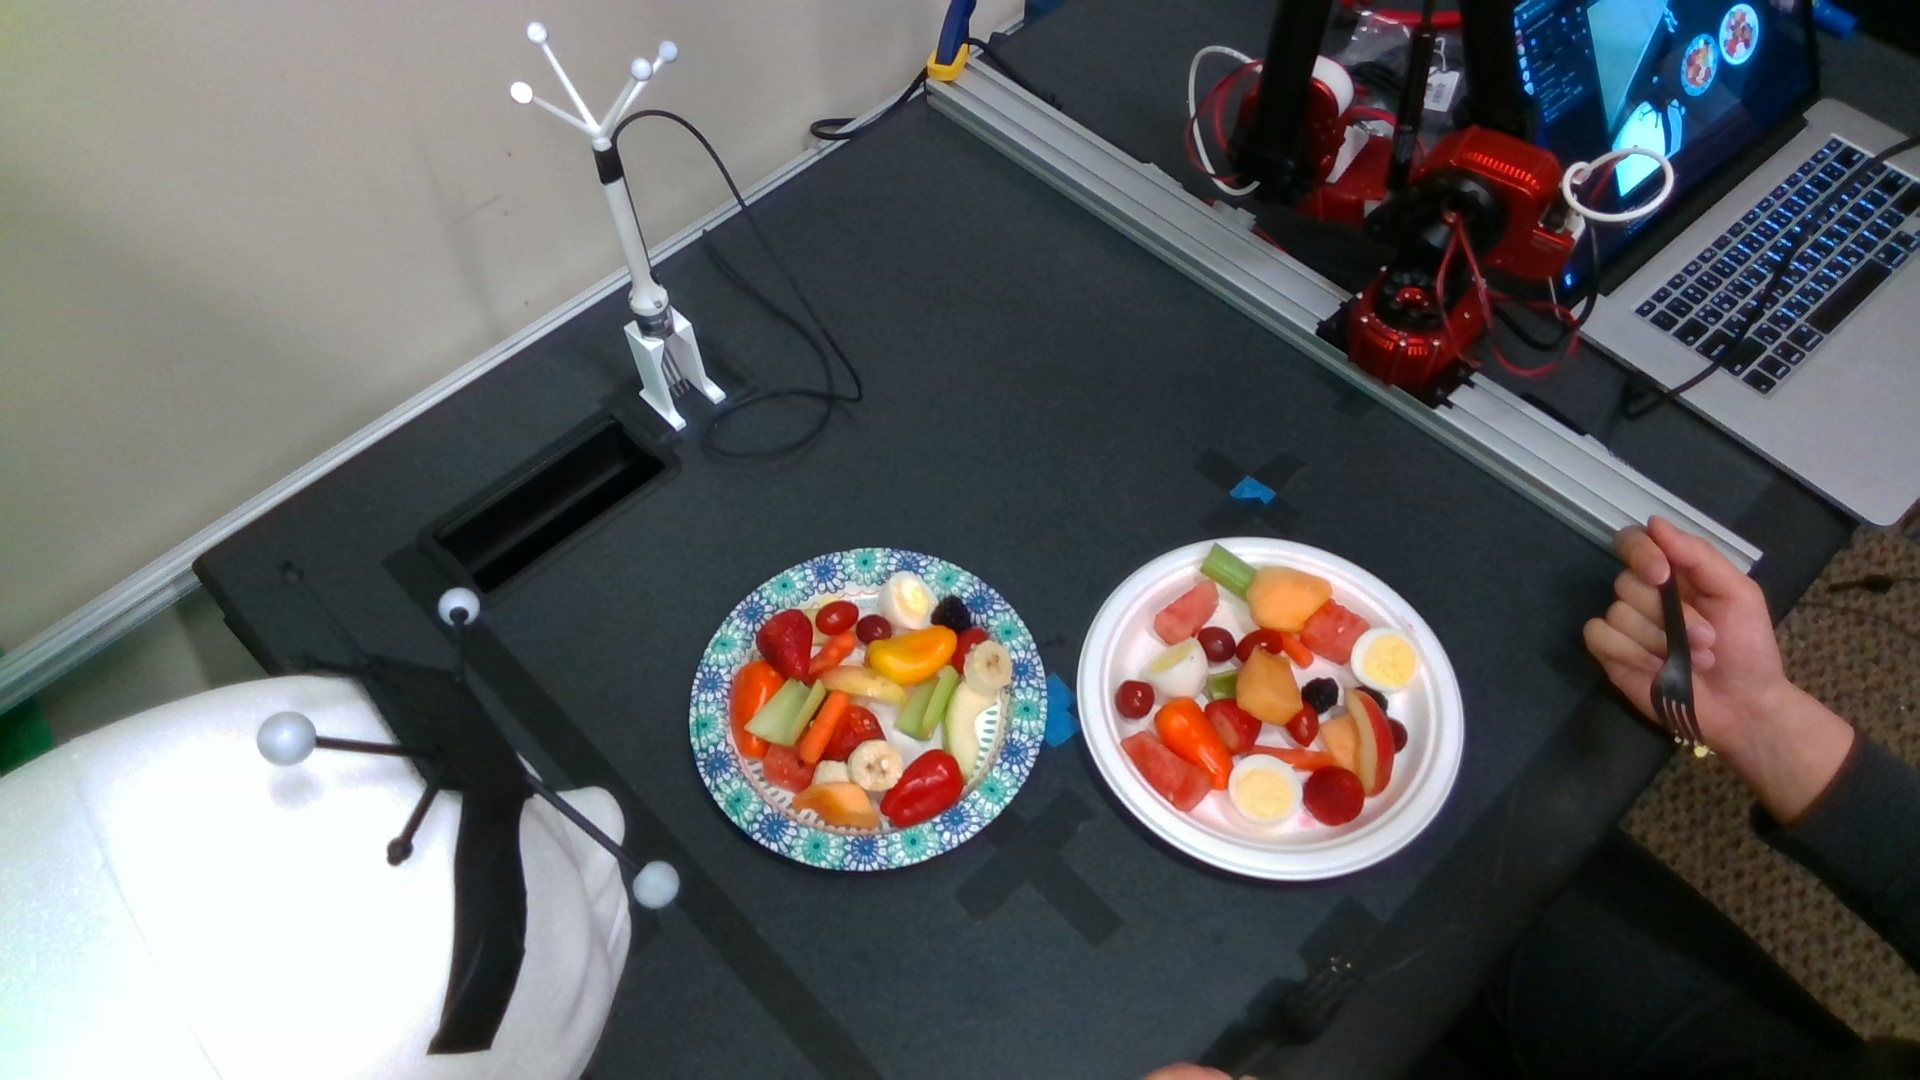apple: (945, 669, 998, 785), (1345, 687, 1395, 796), (823, 669, 909, 708)
banana: (847, 740, 902, 791), (963, 641, 1013, 695)
bell pepper: (1154, 698, 1234, 789), (882, 749, 964, 828), (864, 625, 957, 686), (731, 659, 782, 760)
blackberry: (931, 595, 971, 636), (1302, 676, 1338, 716)
cantalope: (1245, 564, 1333, 630), (1236, 647, 1304, 727), (793, 782, 877, 829)
carrot: (800, 688, 849, 764), (808, 630, 858, 676)
celery: (744, 676, 825, 746), (895, 665, 957, 740), (1200, 543, 1261, 600)
cherry tomato: (1284, 702, 1319, 749), (816, 601, 857, 636), (1237, 629, 1283, 659)
egg: (1229, 754, 1302, 825), (1350, 628, 1419, 694), (1145, 638, 1209, 698), (880, 570, 940, 630)
grape: (1114, 680, 1154, 719), (1197, 626, 1236, 662), (858, 616, 891, 645)
melon: (1121, 731, 1211, 811), (1300, 597, 1370, 665), (1153, 579, 1218, 646), (764, 742, 815, 790)
plate: (1075, 538, 1464, 885), (688, 545, 1044, 873)
strawberry: (757, 611, 812, 680), (1302, 766, 1365, 825), (1205, 698, 1262, 754)
